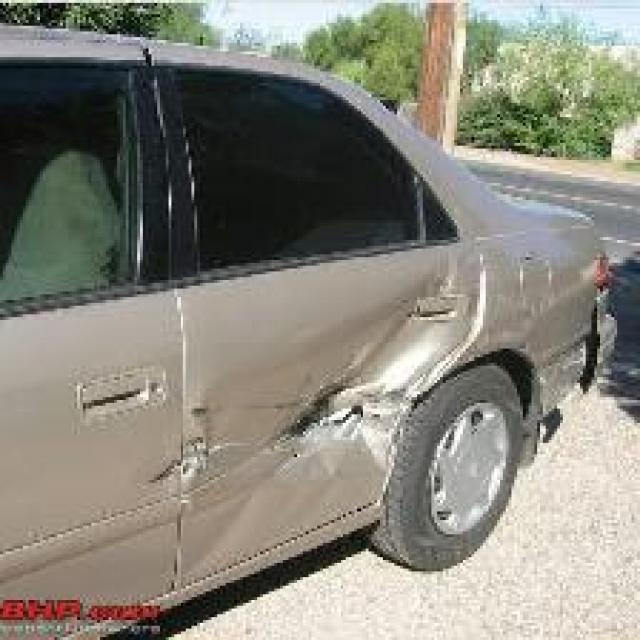damaged: (154, 266, 483, 500), (577, 291, 617, 400)
